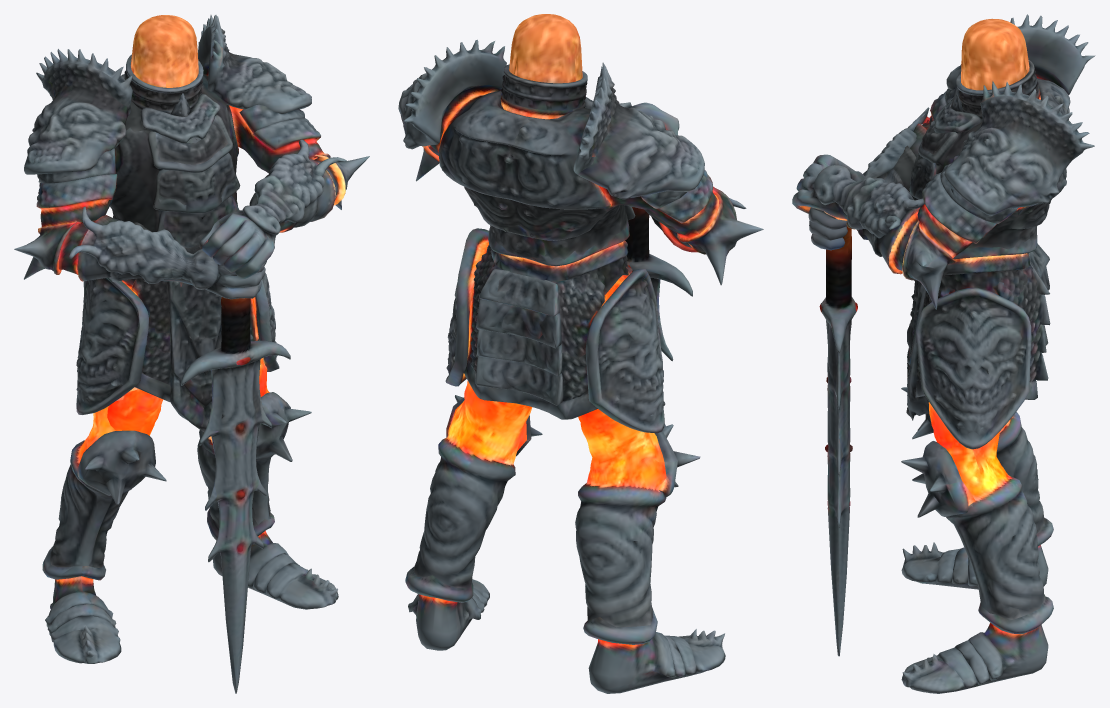
The model's file is MZ4250 - Veneranda.glb.
The picture shows the model from 3 angles, left to right: view 1: azimuth 30°, elevation 25°; view 2: azimuth 150°, elevation 25°; view 3: azimuth 270°, elevation 25°; orthographic projection. The views are drawn at different scales.
Parts seen in each view (by area): view 1: Cube.001; view 2: Cube.001; view 3: Cube.001.
Boxes of the visible parts, x1=… form: Cube.001: x1=14, y1=15, x2=369, y2=693; Cube.001: x1=398, y1=14, x2=763, y2=693; Cube.001: x1=792, y1=14, x2=1095, y2=693.
Bounding box in the file's own units: 57.31 × 97.89 × 42.41.
Materials: 1 (1 with a texture image).
